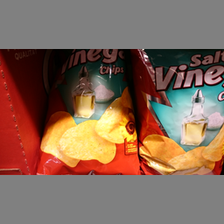chips: (39, 50, 139, 174), (136, 49, 224, 174)
